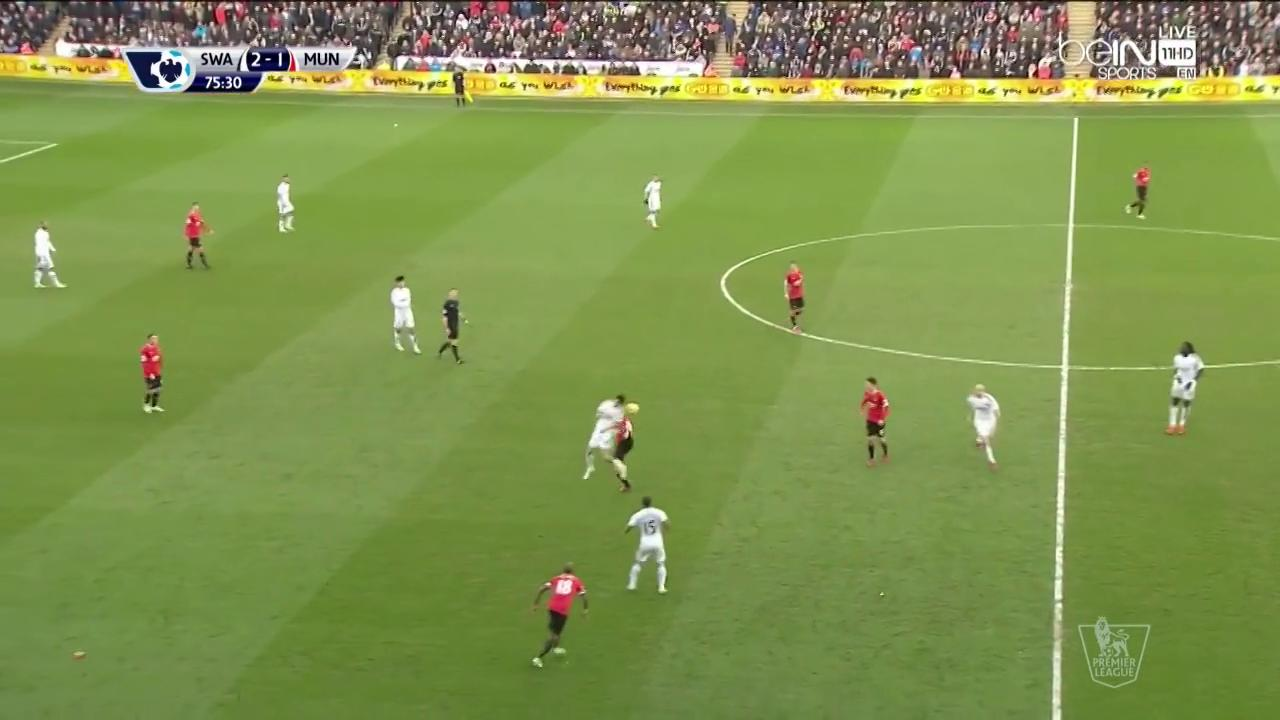football: (625, 401, 639, 414)
